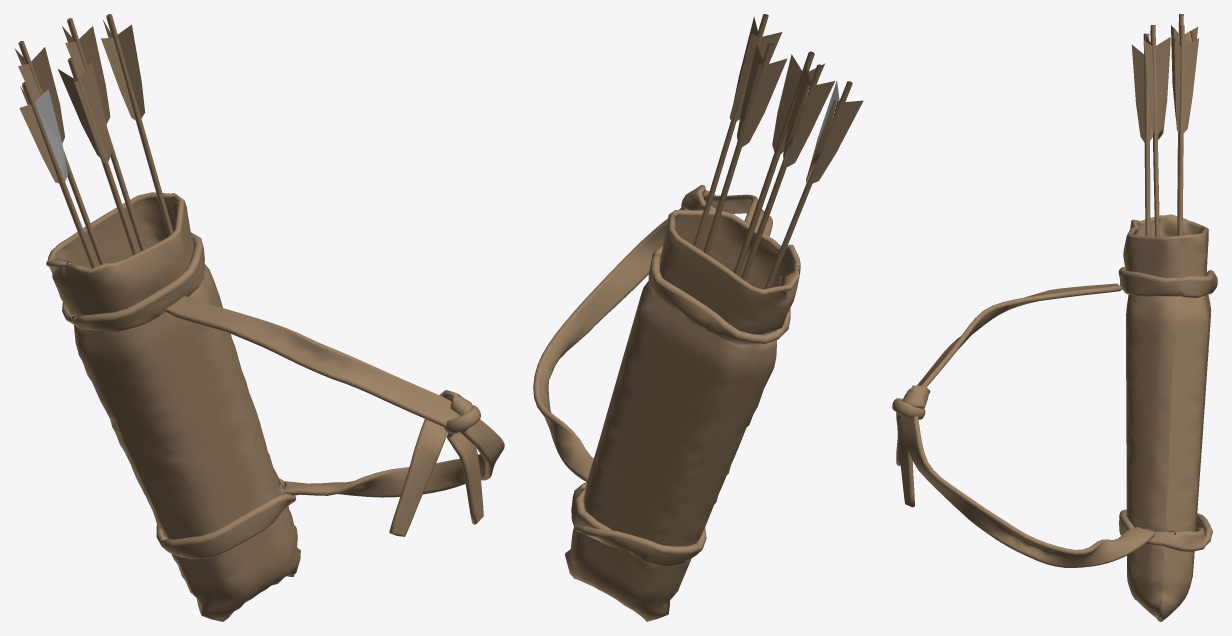
The model's file is quiver_for_arrows.glb.
The picture shows the model from 3 angles, left to right: view 1: azimuth 30°, elevation 25°; view 2: azimuth 150°, elevation 25°; view 3: azimuth 270°, elevation 25°; orthographic projection. The views are drawn at different scales.
Visible parts, largest first — view 1: Object_5, Object_4, Object_3, Object_2; view 2: Object_5, Object_4, Object_3; view 3: Object_5, Object_4, Object_3.
Part boxes in pixels (bbox=[...]): Object_5: bbox=[49, 198, 504, 621]; Object_4: bbox=[14, 14, 504, 621]; Object_3: bbox=[18, 20, 145, 183]; Object_2: bbox=[35, 89, 67, 181]; Object_5: bbox=[539, 185, 800, 621]; Object_4: bbox=[533, 14, 852, 621]; Object_3: bbox=[729, 16, 863, 183]; Object_5: bbox=[892, 214, 1217, 620]; Object_4: bbox=[896, 14, 1214, 621]; Object_3: bbox=[1131, 25, 1198, 142].
Size of the model in its own units: 368 by 576 by 314.
2 materials, 1 textured.
